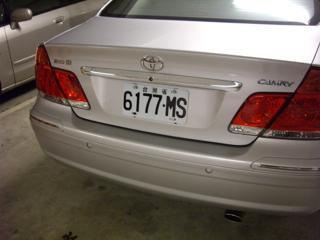plate: (120, 81, 189, 127)
